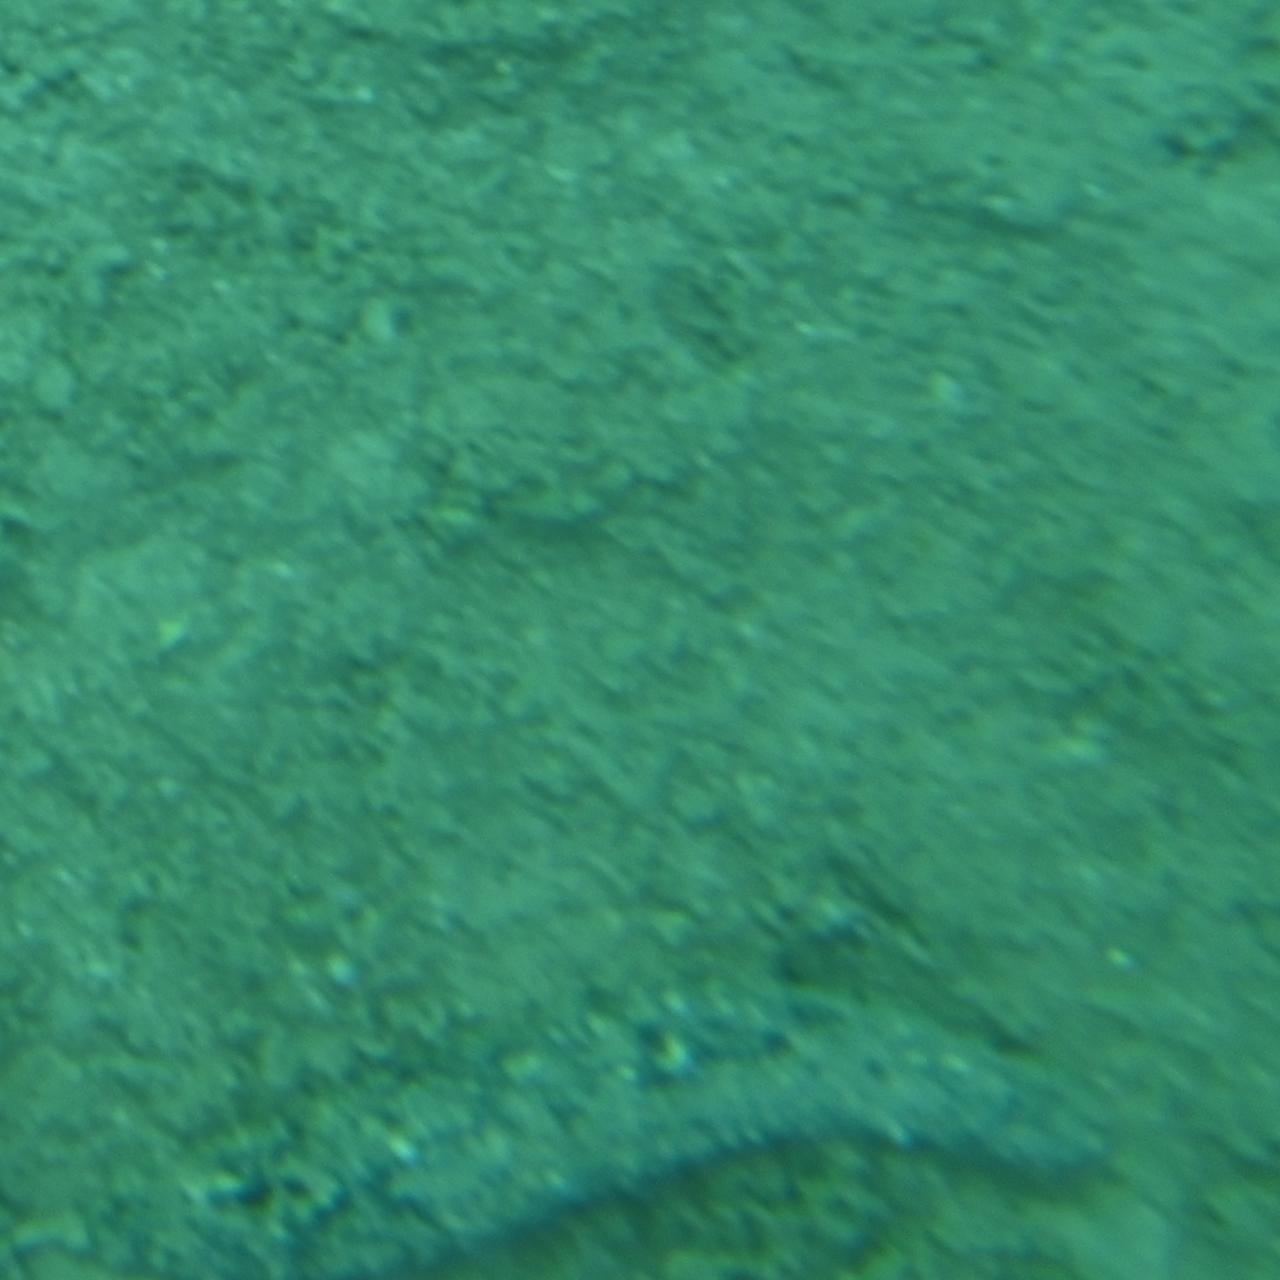Holothuria tubulosa: (132, 965, 1148, 1279)
